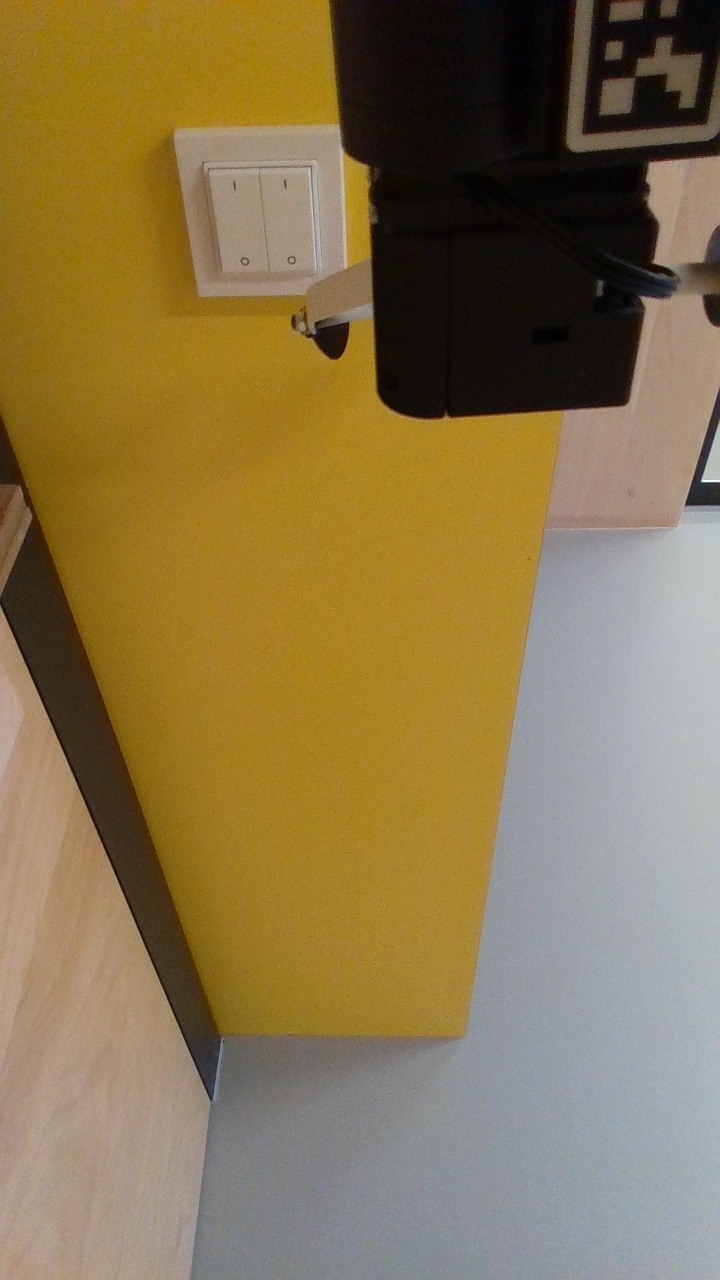Light_Switch: (180, 138, 344, 295)
